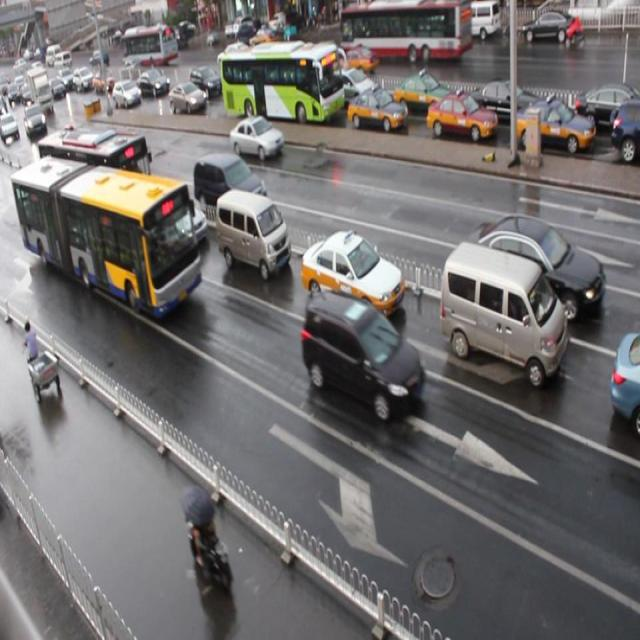car: (302, 290, 427, 424), (464, 215, 604, 321), (300, 229, 403, 321), (514, 100, 594, 160), (139, 188, 207, 252), (426, 91, 497, 145), (471, 79, 547, 127), (570, 85, 640, 133), (608, 330, 640, 433), (393, 71, 456, 116), (346, 88, 406, 134), (230, 116, 285, 166), (328, 63, 378, 103), (610, 100, 640, 161), (22, 159, 61, 204), (58, 127, 96, 167), (187, 64, 220, 101), (160, 82, 198, 114), (134, 69, 170, 96), (112, 80, 140, 106)
truck: (438, 240, 568, 389), (214, 187, 290, 282), (194, 152, 268, 224)
van: (12, 156, 204, 322), (38, 127, 154, 235), (216, 41, 339, 125)
